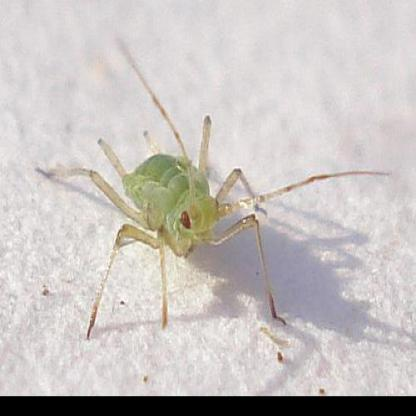aphid: (59, 74, 340, 337)
